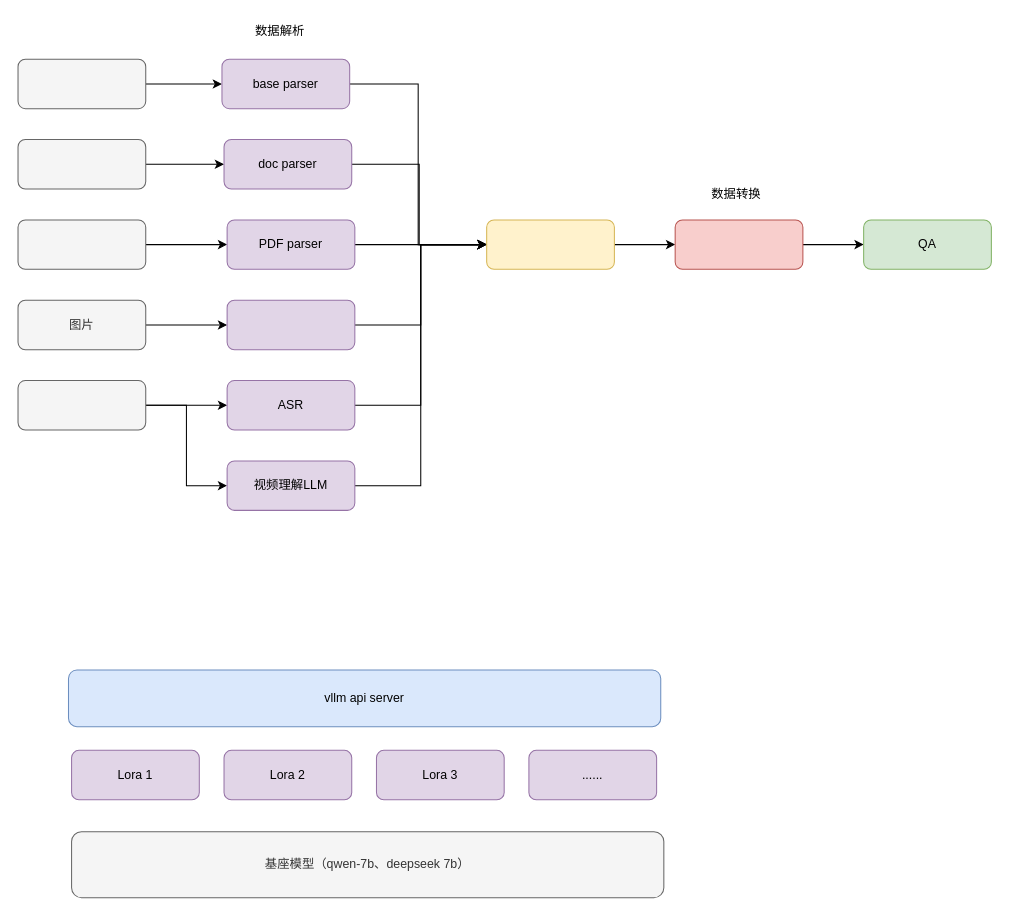
Image size: 1009x916. Some labels were removed from this diagram. Each missing label, with the centre of its shape:
database: (x=81, y=83)
LLM/人工打标: (x=738, y=244)
Markdown、excel: (x=81, y=164)
OCR/LLM: (x=290, y=324)
PDF、Word: (x=81, y=244)
text block: (x=550, y=244)
音视频: (x=81, y=405)
